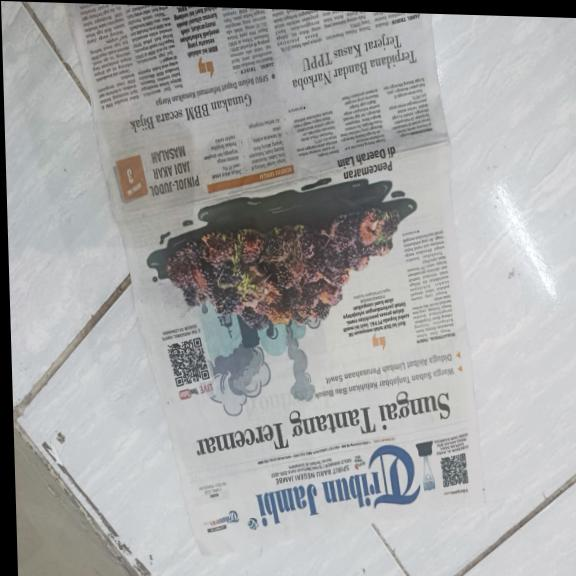Kertas: (169, 215, 479, 508), (109, 6, 443, 230)
